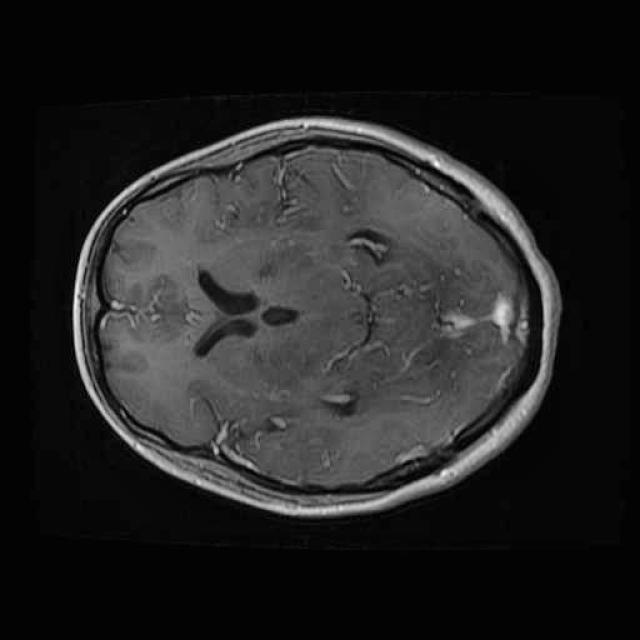Non-Tumor: (329, 213, 414, 282)
